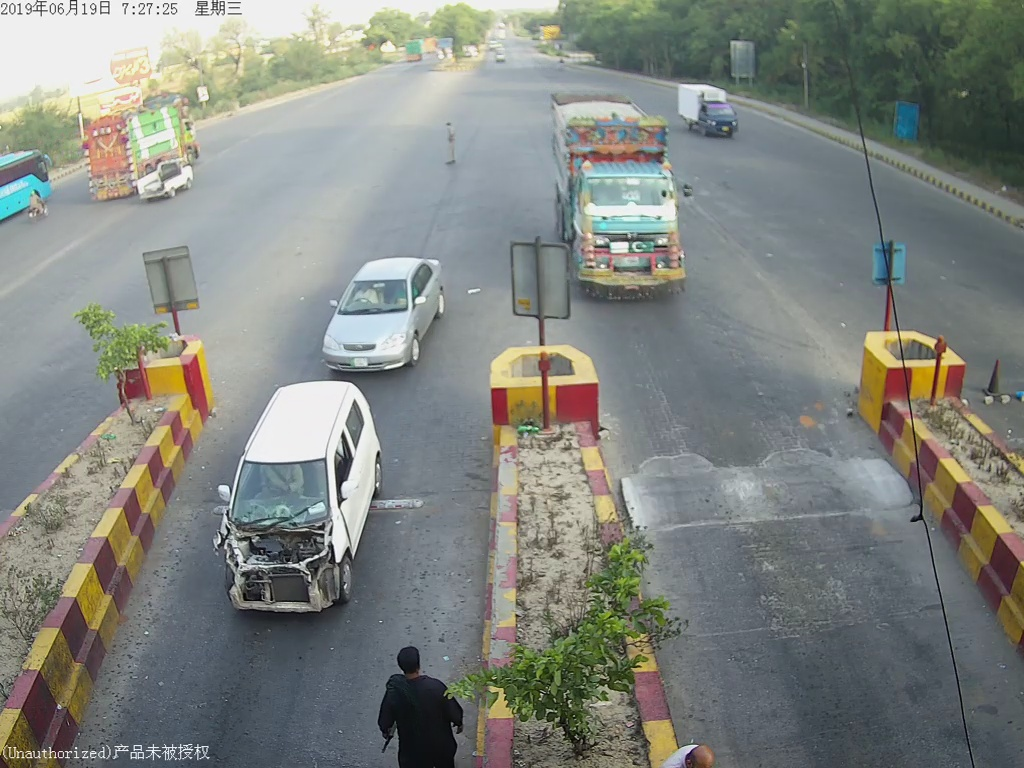Cat-1: (219, 378, 405, 628), (319, 243, 450, 369)
Cat-4: (555, 76, 691, 303)
